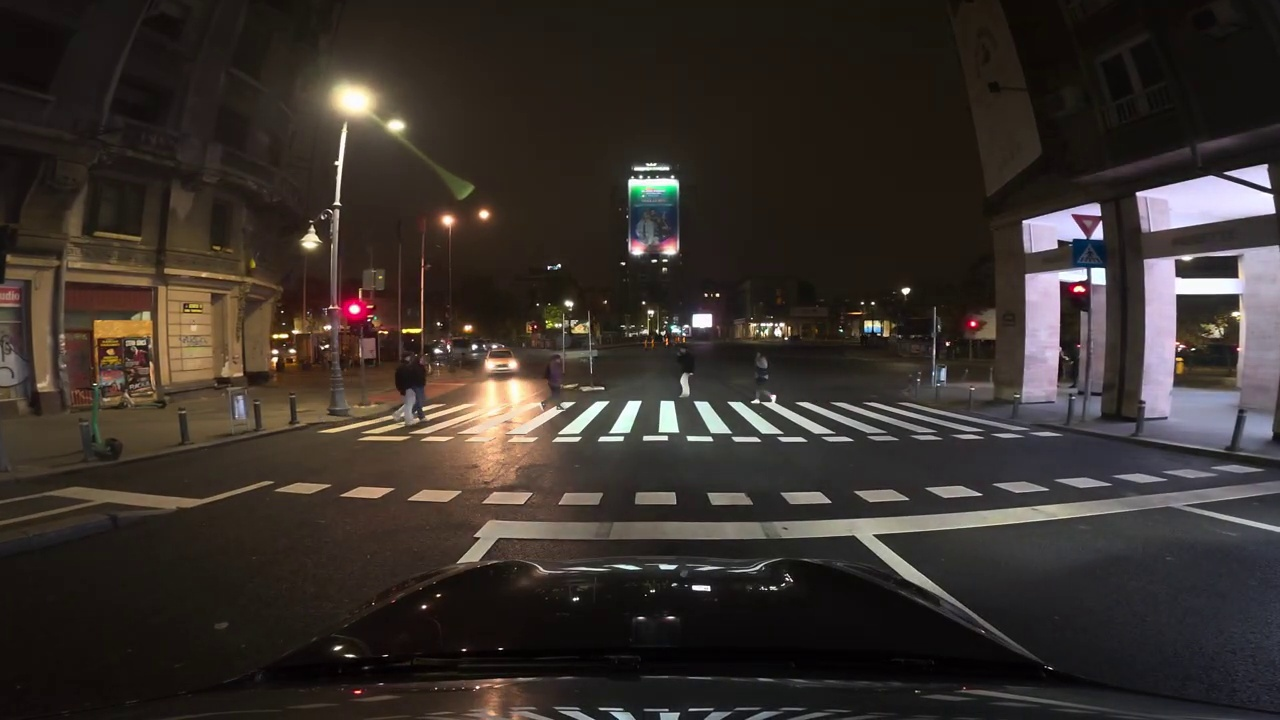acesa: (334, 85, 372, 116), (300, 230, 324, 255), (436, 212, 458, 232), (385, 118, 407, 137), (478, 206, 496, 226), (897, 283, 915, 301)
